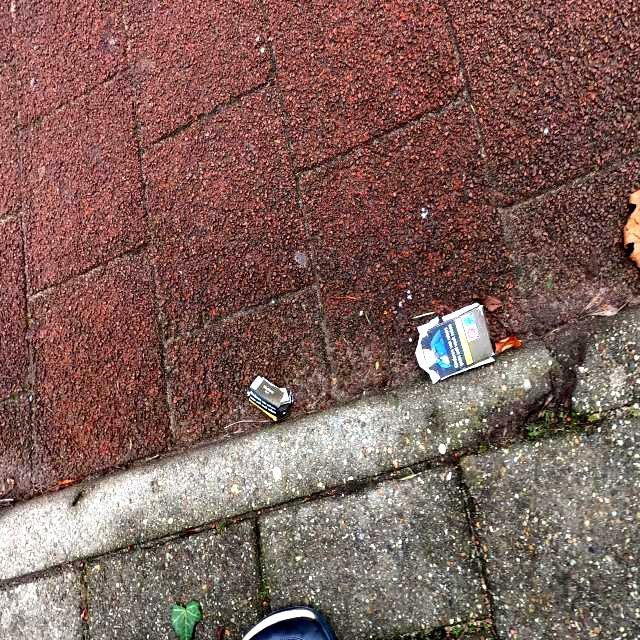Paper: (414, 302, 496, 386), (246, 373, 294, 422)
